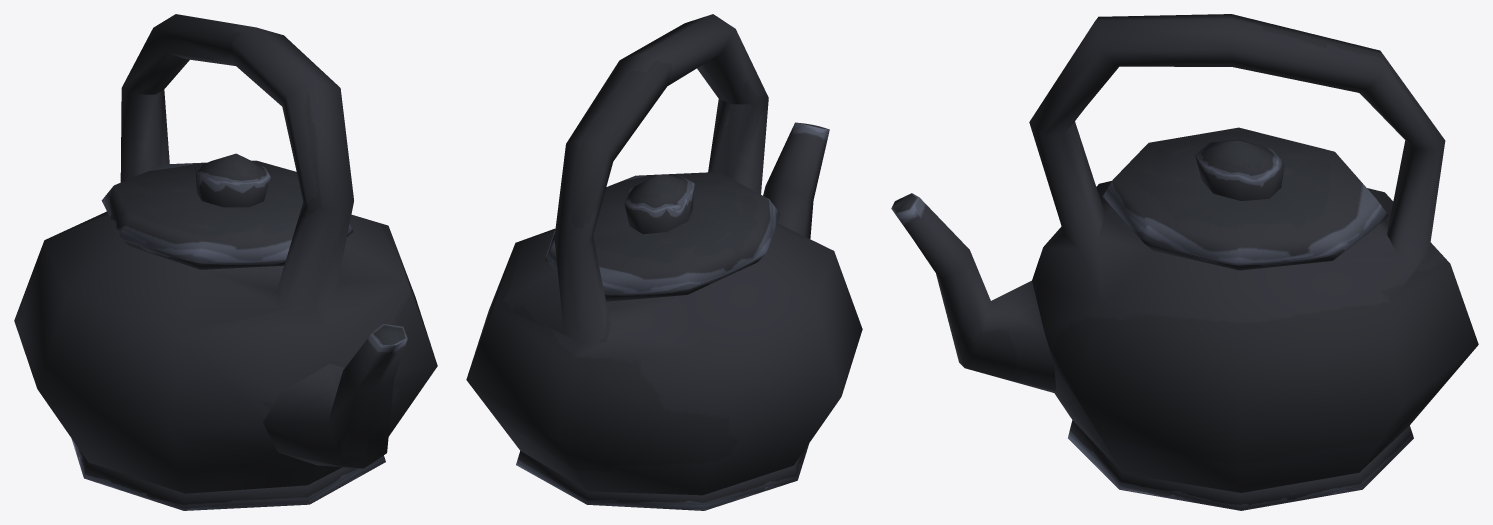
Rendered from SM_PROP_kettle_interior.fbx.
3 views of the same model, side by side, from view 1: azimuth 30°, elevation 25°; view 2: azimuth 150°, elevation 25°; view 3: azimuth 270°, elevation 25° (orthographic). The views are drawn at different scales.
Parts seen in each view (by area): view 1: SM_PROP_kettle_interior; view 2: SM_PROP_kettle_interior; view 3: SM_PROP_kettle_interior.
Part boxes in pixels (x1,y1,x2,y2): SM_PROP_kettle_interior: [14, 14, 437, 510]; SM_PROP_kettle_interior: [466, 14, 862, 510]; SM_PROP_kettle_interior: [891, 14, 1478, 510].
Bounding box in the file's own units: 28.51 × 29.8 × 36.82.
